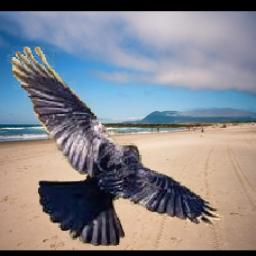Crow: (7, 36, 229, 246)
